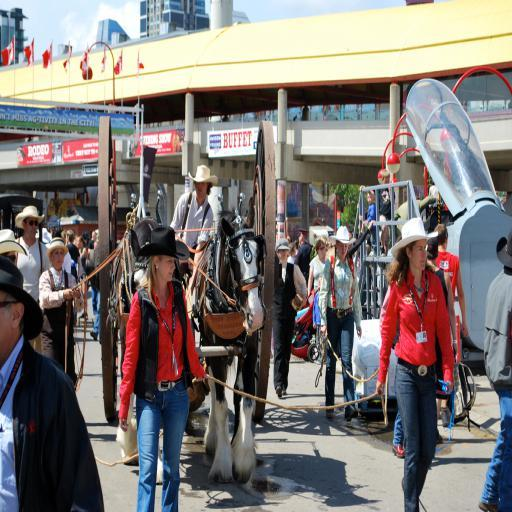Horse: (193, 194, 267, 488), (112, 217, 181, 465)
